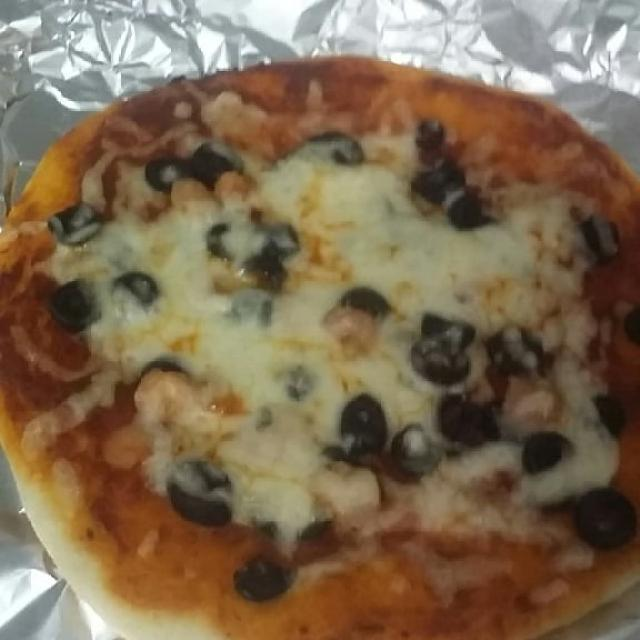black_olives: (168, 458, 237, 528), (571, 487, 640, 547), (485, 324, 552, 378), (406, 335, 469, 384), (233, 554, 295, 603), (442, 398, 502, 447), (48, 197, 106, 247), (49, 280, 104, 329), (342, 395, 386, 453), (298, 130, 365, 167), (410, 159, 469, 200), (523, 432, 575, 476), (194, 142, 246, 186), (393, 424, 440, 472), (252, 514, 336, 540), (419, 311, 477, 348), (114, 270, 158, 318), (236, 256, 286, 294), (582, 214, 627, 256), (594, 392, 630, 439), (342, 286, 390, 320), (145, 159, 192, 192), (447, 190, 490, 226), (264, 223, 302, 256), (417, 119, 446, 154), (202, 222, 228, 256), (620, 304, 640, 344)
pizza: (0, 56, 640, 640)
